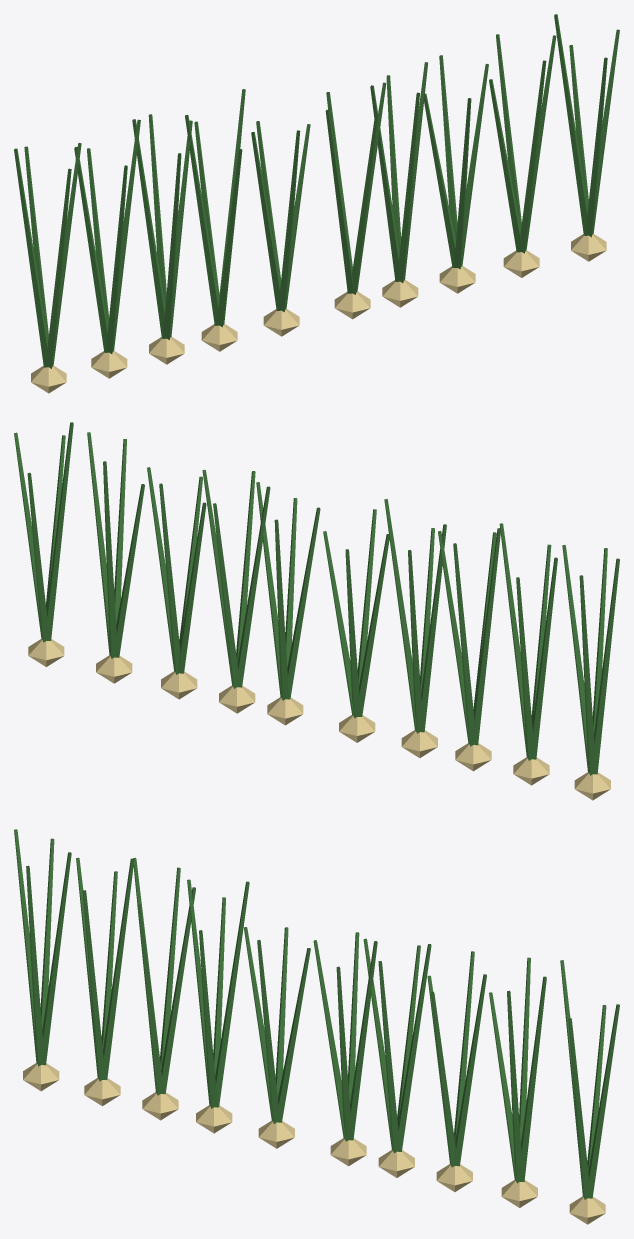
Rendered from onion_row.glb.
The picture shows the model from 3 angles, top to bottom: view 1: azimuth 30°, elevation 25°; view 2: azimuth 150°, elevation 25°; view 3: azimuth 330°, elevation 25°; orthographic projection.
Visible parts, largest first — view 1: onion_row; view 2: onion_row; view 3: onion_row.
Boxes of the visible parts, bbox=[...] form: onion_row: bbox=[14, 14, 619, 393]; onion_row: bbox=[14, 422, 619, 800]; onion_row: bbox=[14, 829, 619, 1224].
Bounding box in the file's own units: 1.01 × 0.4038 × 0.1059.
